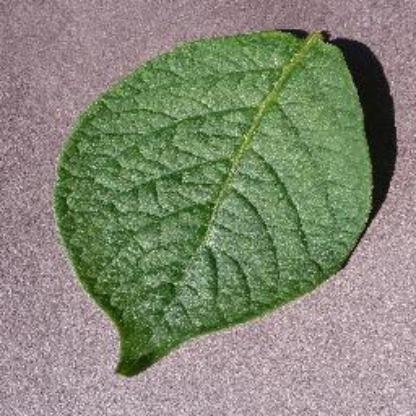Healthy-plant: (46, 22, 392, 366)
